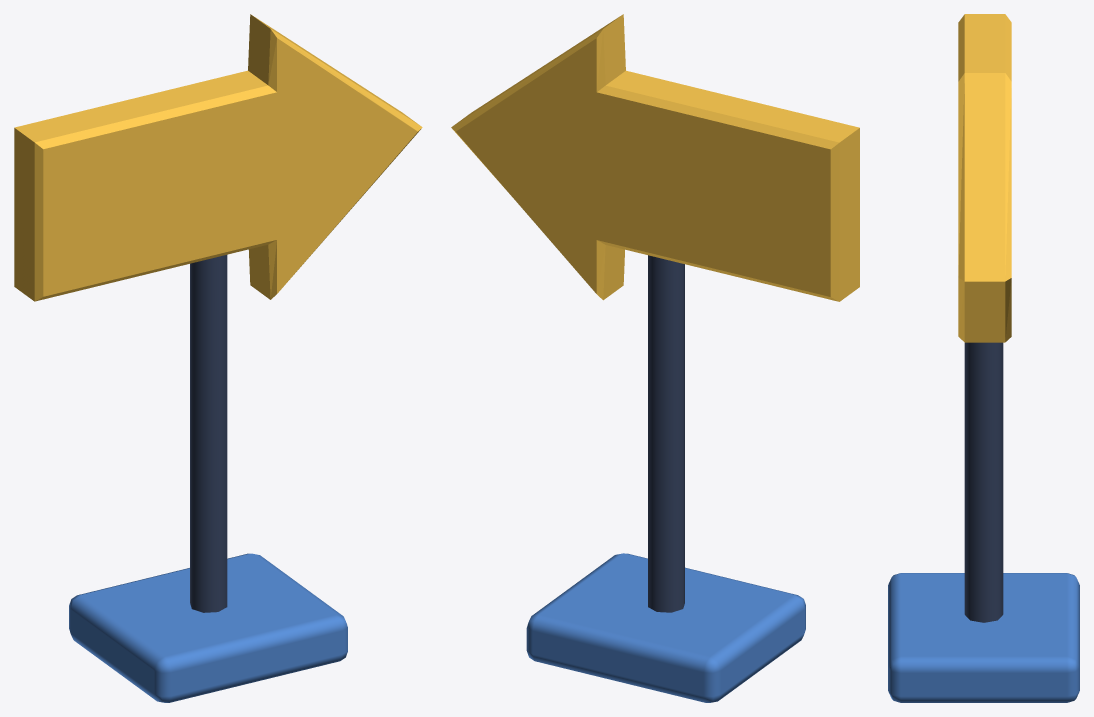
Rendered from route-arrow.glb.
3 views of the same model, side by side, from view 1: azimuth 30°, elevation 25°; view 2: azimuth 150°, elevation 25°; view 3: azimuth 270°, elevation 25° (orthographic).
Parts seen in each view (by area): view 1: arrow-sign, base, post; view 2: arrow-sign, base, post; view 3: base, arrow-sign, post.
Part boxes in pixels (<box>): arrow-sign: <box>14,14,422,301</box>; base: <box>69,553,347,702</box>; post: <box>190,255,227,612</box>; arrow-sign: <box>451,14,859,301</box>; base: <box>526,553,805,702</box>; post: <box>648,255,684,612</box>; base: <box>888,573,1079,702</box>; arrow-sign: <box>958,14,1011,342</box>; post: <box>964,342,1003,622</box>.
Bounding box in the file's own units: 1.05 × 1.59 × 0.45.
